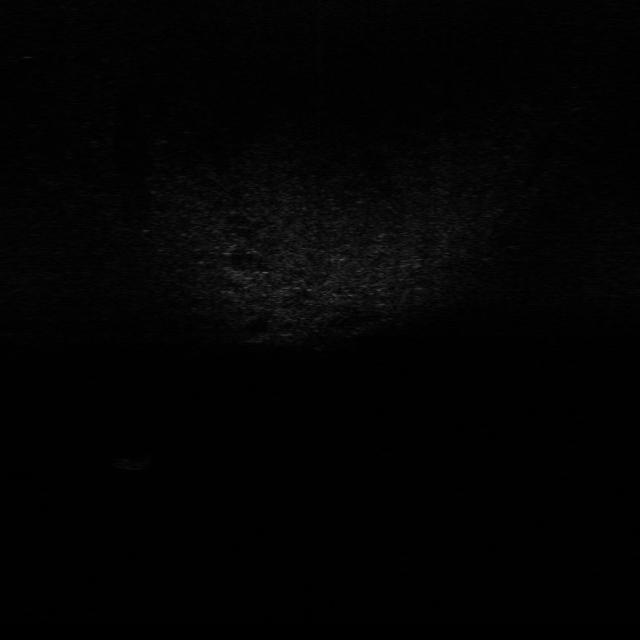cube: (111, 445, 157, 471)
